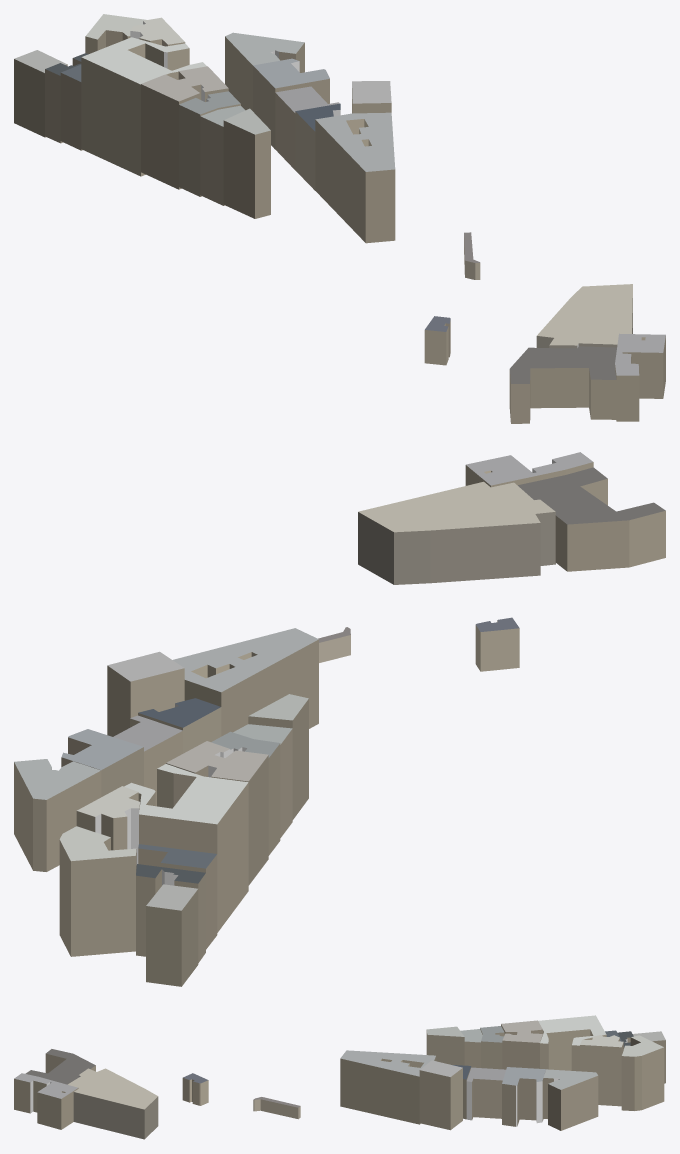
The picture shows the model from 3 angles, top to bottom: view 1: azimuth 30°, elevation 25°; view 2: azimuth 150°, elevation 25°; view 3: azimuth 270°, elevation 25°; orthographic projection. The views are drawn at different scales.
Parts seen in each view (by area): view 1: tuile; view 2: tuile; view 3: tuile.
Boxes of the visible parts, <box> form: tuile: <box>14,14,665,423</box>; tuile: <box>14,452,665,986</box>; tuile: <box>14,1015,665,1139</box>.
Bounding box in the file's own units: 72.21 × 30.5 × 258.
